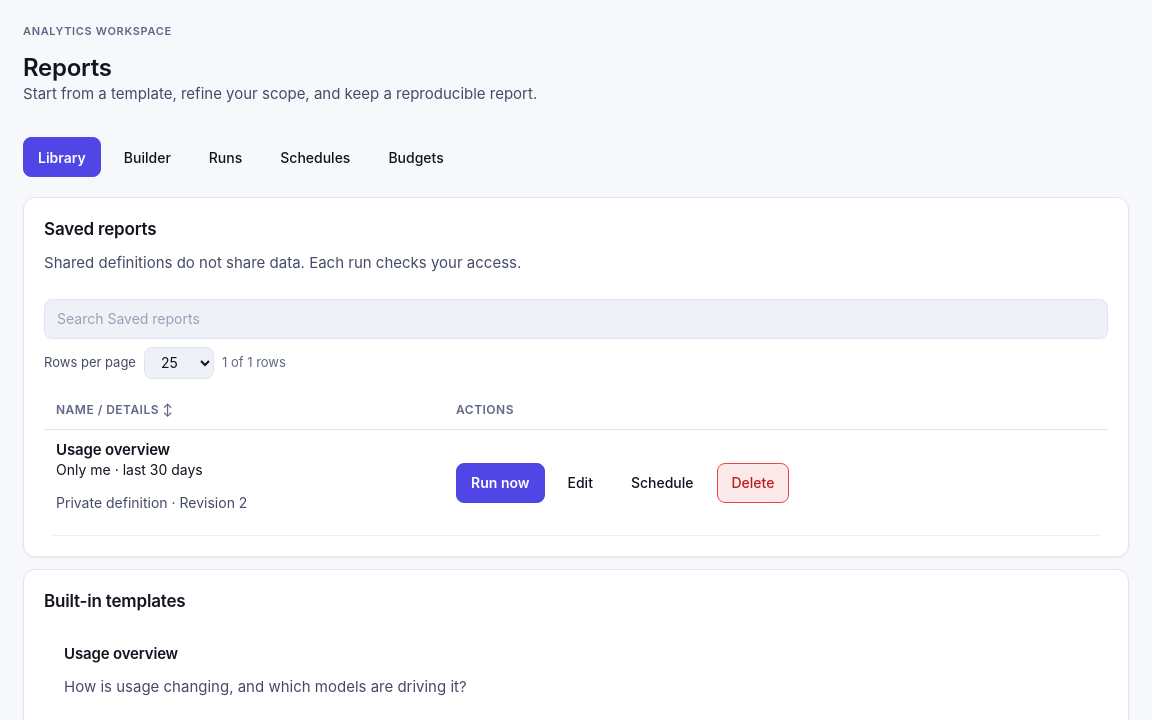
Test: shows conflict reason, preserves dirty draft on refetch, and never silently overwrites
Step 1. Click the button with aria-label "Edit Usage overview" → (580, 483), box [552,463,608,503]
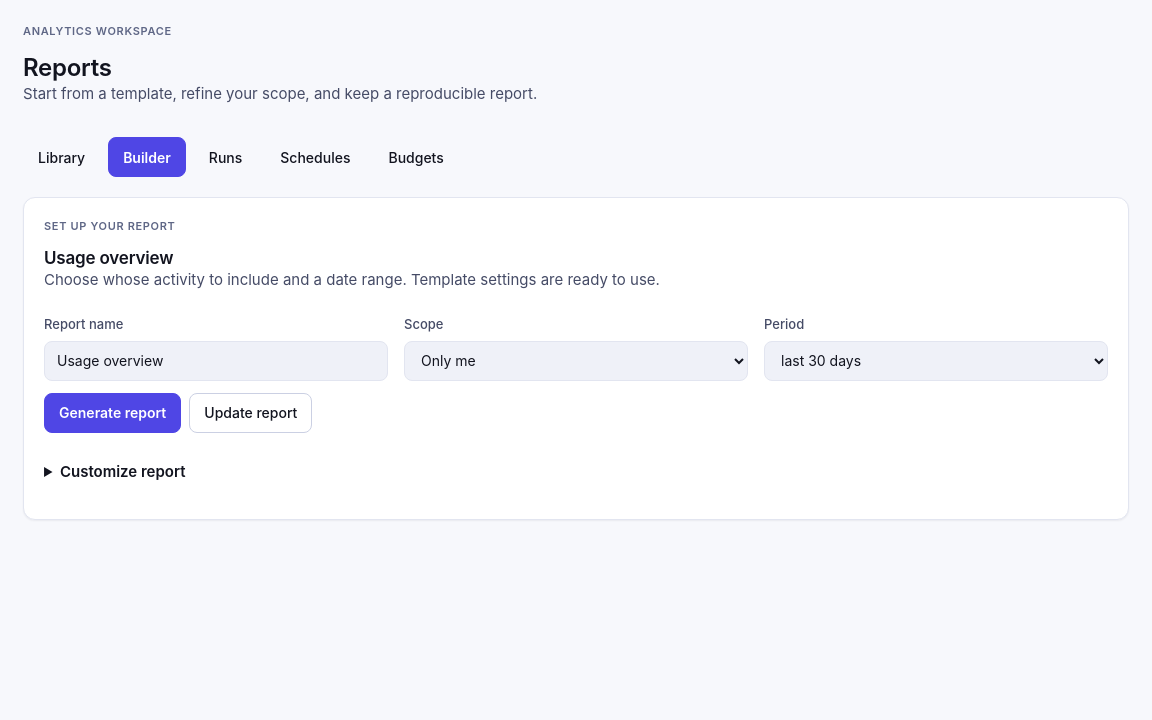
Step 2. Replace the text in the field labelled "Report name" with "My unsaved draft" → (216, 361), box [44,341,388,381]
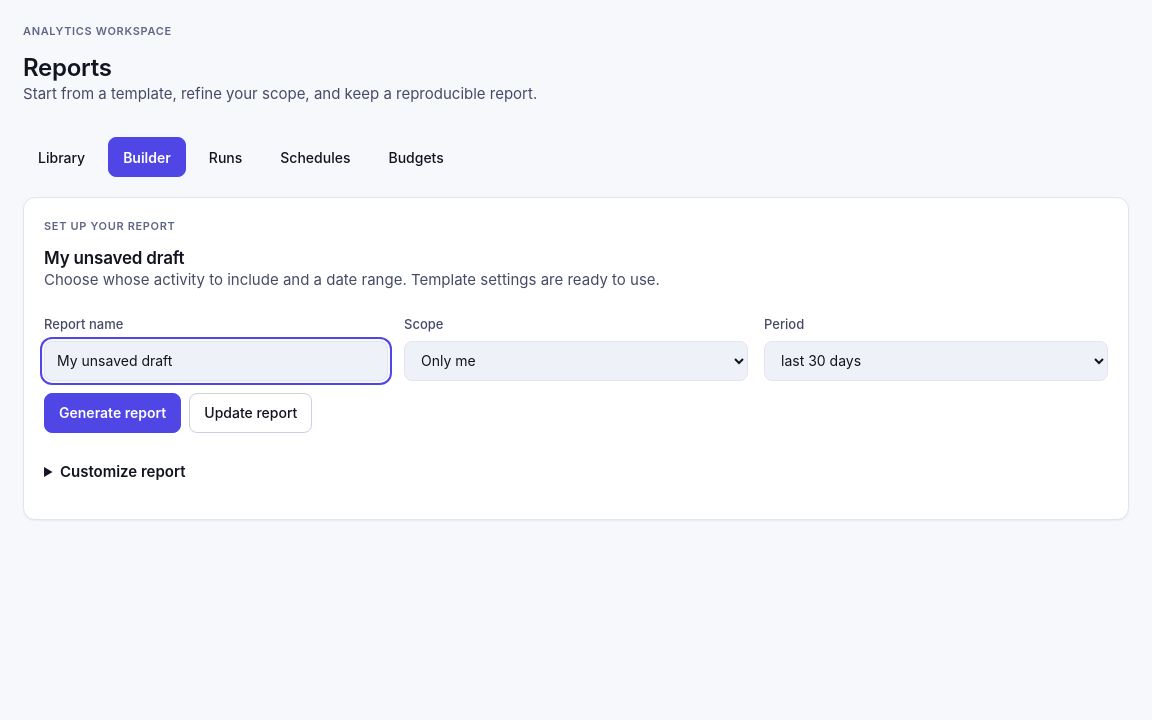
Step 3. Click the button "Update report" → (251, 413), box [189,393,312,433]
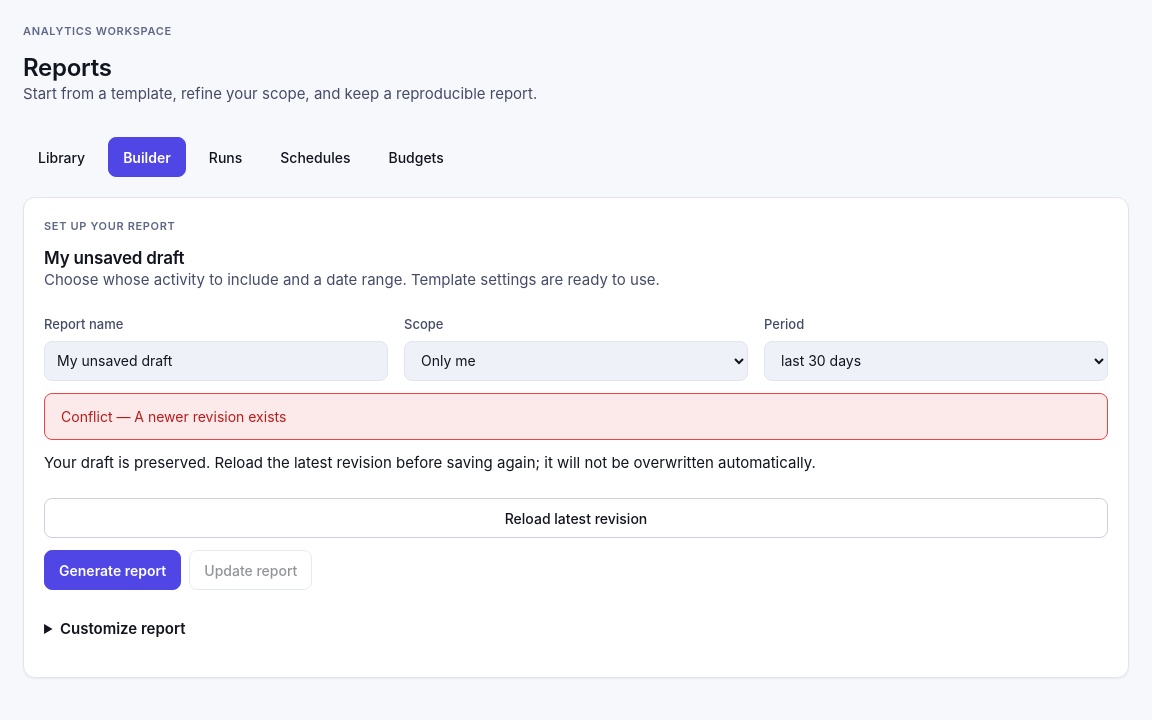
Result: the text "Conflict — A newer revision exists" is shown at [44,393,1108,440]
Result: the button "Update report" is disabled at [189,550,312,590]
Result: the button "Reload latest revision" is shown at [44,498,1108,538]
